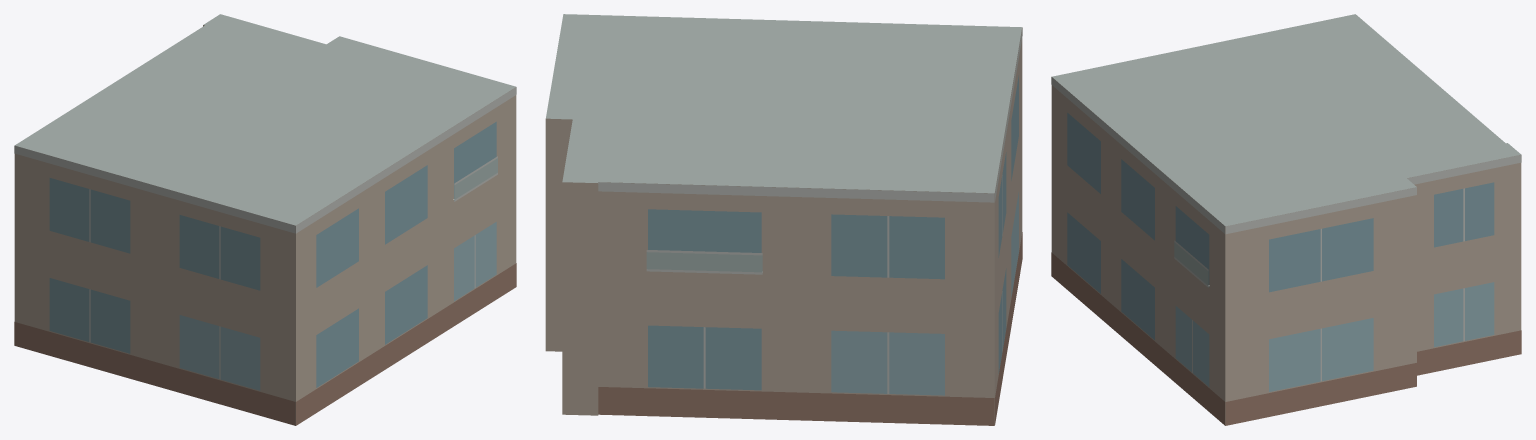
Rendered from survey-upis-32809323.glb.
The picture shows the model from 3 angles, left to right: view 1: azimuth 30°, elevation 25°; view 2: azimuth 150°, elevation 25°; view 3: azimuth 270°, elevation 25°; orthographic projection. The views are drawn at different scales.
Visible parts, largest first — view 1: survey-upis-32809323.tmp; view 2: survey-upis-32809323.tmp; view 3: survey-upis-32809323.tmp.
Part boxes in pixels (left/top/right/bottom): survey-upis-32809323.tmp: left=14, top=14, right=516, bottom=425; survey-upis-32809323.tmp: left=545, top=14, right=1022, bottom=425; survey-upis-32809323.tmp: left=1051, top=14, right=1521, bottom=425.
Size of the model in its own units: 13.93 by 6.1 by 13.03.
